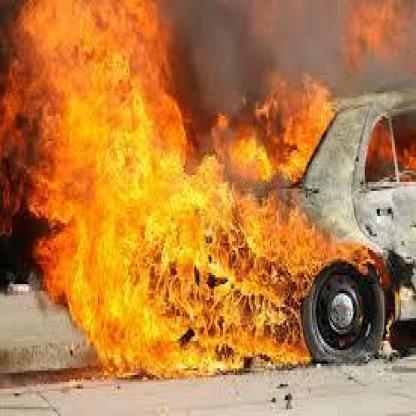fire: (0, 0, 413, 366)
